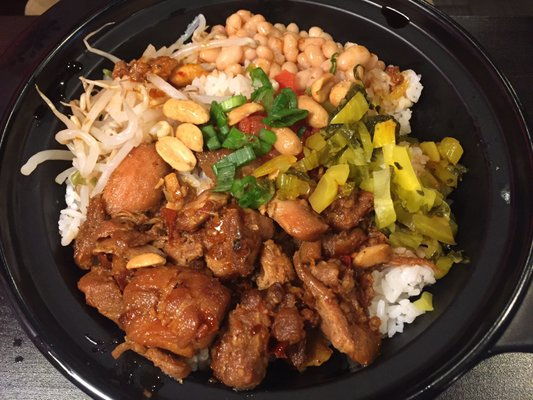sushi: (24, 0, 533, 398)
